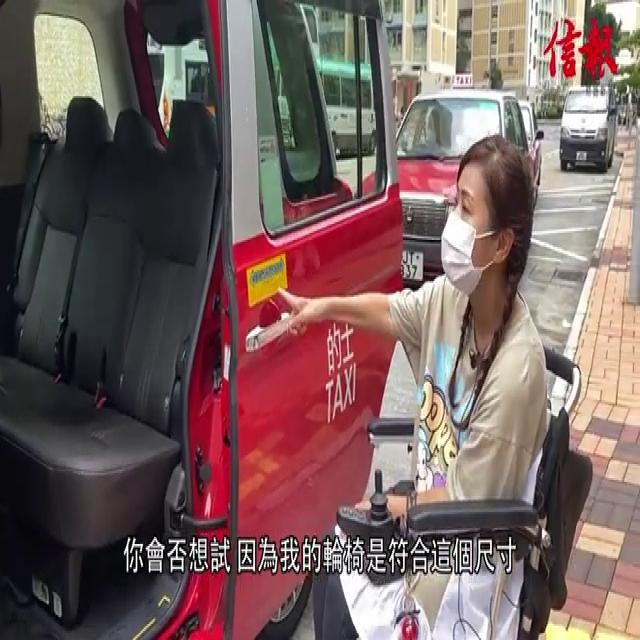wheelchairs: (320, 303, 597, 640)
